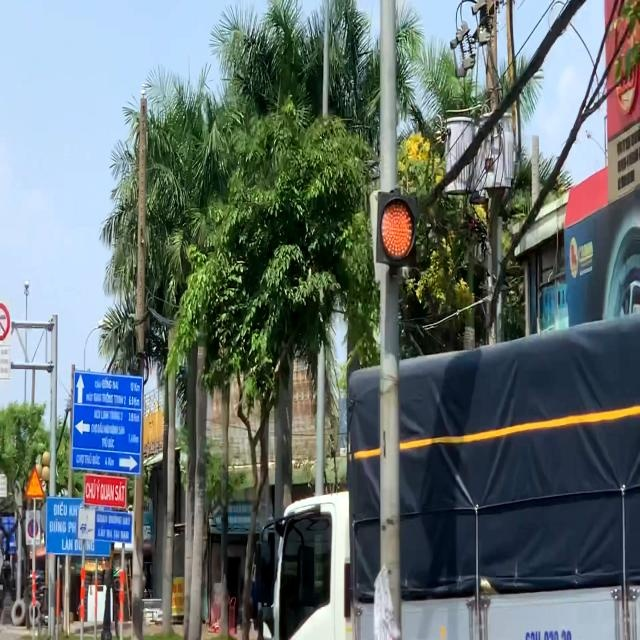bien_chi_dan: (25, 466, 44, 498)
